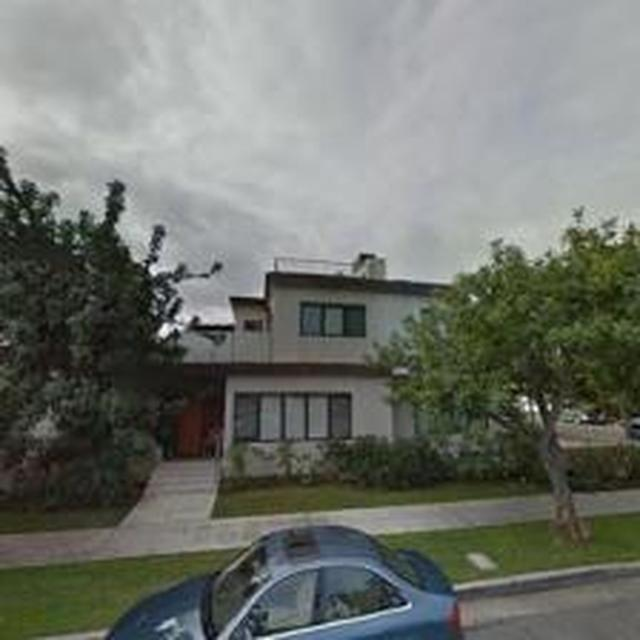building: (157, 262, 502, 463)
